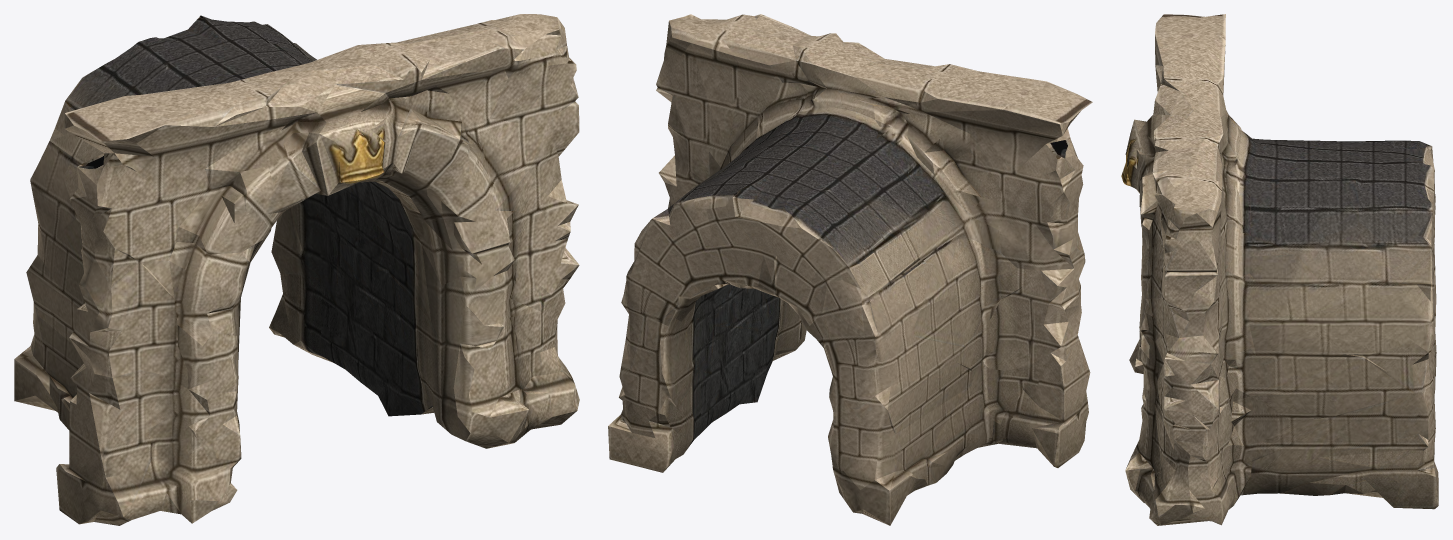
File: royal_dungeon_arch.glb
3 renders of one model, left to right at view 1: azimuth 30°, elevation 25°; view 2: azimuth 150°, elevation 25°; view 3: azimuth 270°, elevation 25°, orthographic. The views are drawn at different scales.
Visible parts, largest first — view 1: output_unwrapped; view 2: output_unwrapped; view 3: output_unwrapped.
Part boxes in pixels (x1=…): output_unwrapped: x1=14, y1=14, x2=579, y2=525; output_unwrapped: x1=608, y1=14, x2=1092, y2=525; output_unwrapped: x1=1121, y1=14, x2=1438, y2=525.
Size of the model in its own units: 1.88 by 1.5 by 1.28.
Materials: 1 (1 with a texture image).
